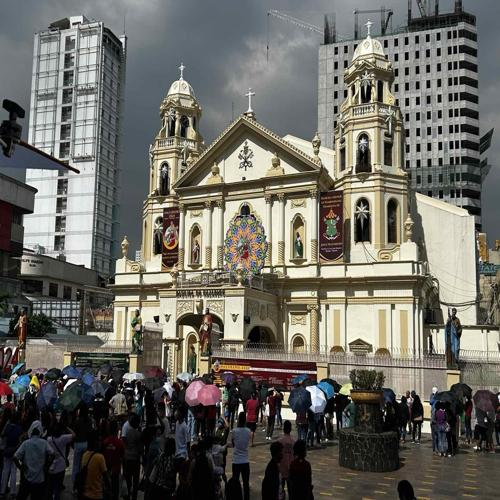Quiapo Church: (116, 16, 438, 377)
